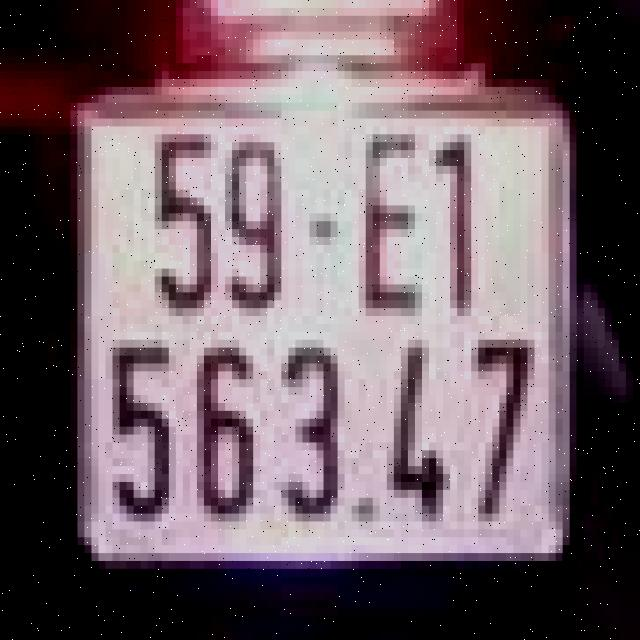1: (422, 123, 499, 312)
3: (274, 340, 352, 537)
4: (387, 324, 457, 521)
5: (88, 328, 172, 541), (137, 115, 222, 320)
6: (183, 332, 267, 537)
7: (461, 320, 545, 533)
9: (221, 122, 299, 320)
E: (341, 115, 440, 320)
